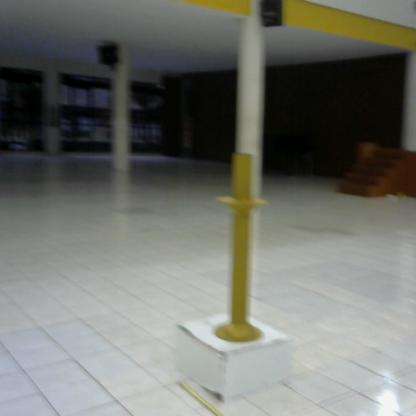pole: (208, 150, 272, 343)
